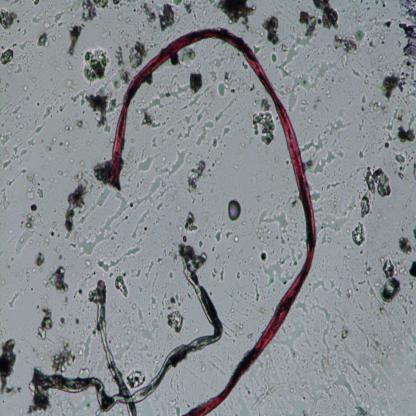Air bubble: (227, 198, 242, 222)
Background material: (78, 156, 161, 260), (322, 321, 374, 414), (0, 100, 66, 171), (136, 72, 209, 128), (322, 254, 381, 310), (283, 36, 328, 109), (351, 168, 392, 246), (304, 118, 348, 171), (354, 1, 398, 48), (62, 174, 91, 236), (76, 90, 118, 132), (298, 0, 340, 39), (139, 1, 193, 30), (6, 264, 42, 306), (111, 41, 143, 88), (29, 7, 65, 48), (14, 204, 41, 256), (258, 206, 291, 247), (333, 28, 366, 68), (80, 43, 110, 87), (0, 334, 22, 393), (259, 250, 295, 286), (250, 97, 276, 146), (215, 0, 258, 29), (384, 107, 416, 143), (377, 255, 400, 305), (46, 340, 78, 375), (78, 0, 124, 23), (55, 301, 87, 334), (196, 255, 230, 286), (399, 0, 416, 62), (379, 66, 409, 100), (158, 146, 190, 177), (317, 210, 349, 241), (198, 45, 227, 79), (73, 262, 97, 302), (354, 99, 374, 145), (0, 1, 27, 35), (186, 155, 206, 195), (15, 32, 37, 68), (164, 298, 186, 334), (312, 179, 345, 200), (260, 15, 281, 47), (23, 172, 45, 200), (49, 264, 71, 292), (214, 96, 240, 118), (196, 119, 217, 146), (37, 307, 55, 338), (91, 161, 113, 186), (68, 22, 84, 56), (125, 365, 145, 390), (218, 71, 238, 96), (391, 155, 408, 180), (114, 273, 131, 298), (0, 48, 18, 70), (172, 50, 196, 64), (183, 211, 197, 234), (398, 235, 414, 253), (62, 72, 76, 92), (407, 258, 416, 283), (208, 160, 223, 175), (216, 230, 232, 241), (219, 126, 233, 138), (0, 80, 11, 95), (254, 287, 263, 305), (252, 47, 263, 61), (356, 152, 371, 162), (232, 235, 243, 246), (66, 59, 74, 73), (25, 90, 39, 98), (273, 54, 280, 68), (233, 267, 240, 280)
Cellulose filter fibre: (32, 249, 224, 411), (94, 280, 138, 416)
Cotton: (111, 28, 317, 415)
